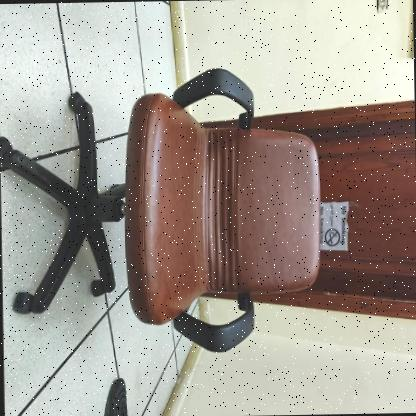chair: (1, 52, 332, 360)
